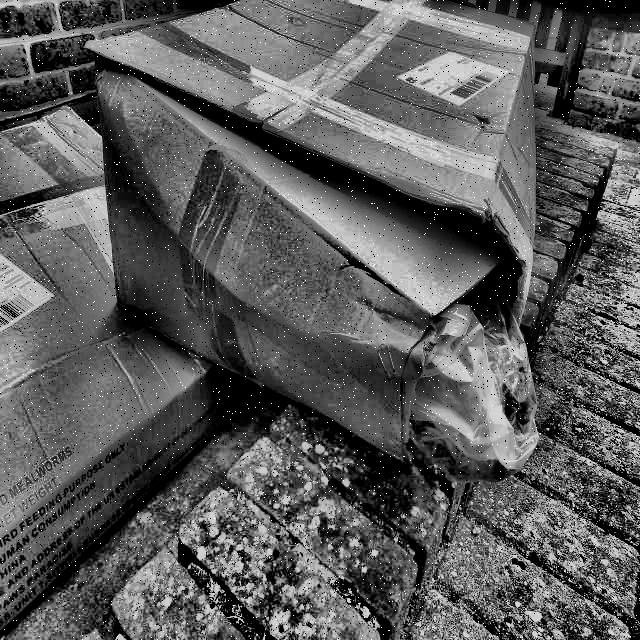box: (66, 0, 563, 517)
hole: (403, 232, 537, 464)
